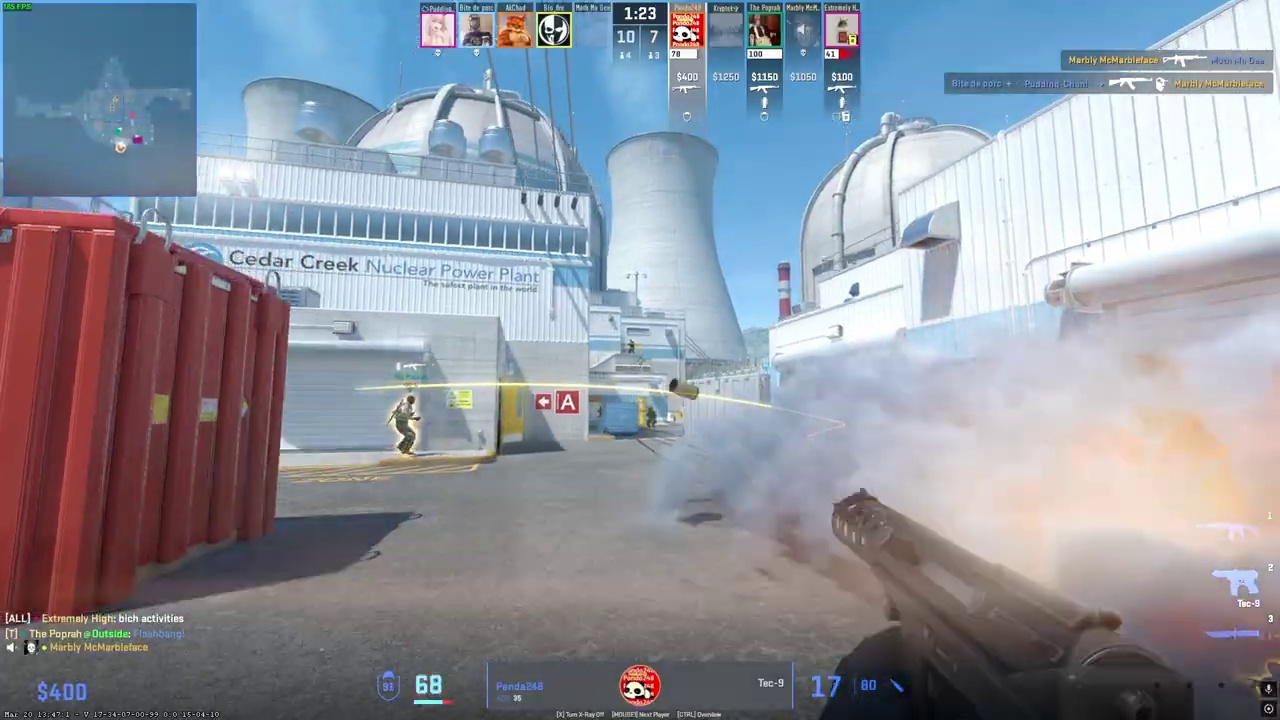CT: (645, 407, 657, 428)
Terrorist: (395, 395, 421, 454)
